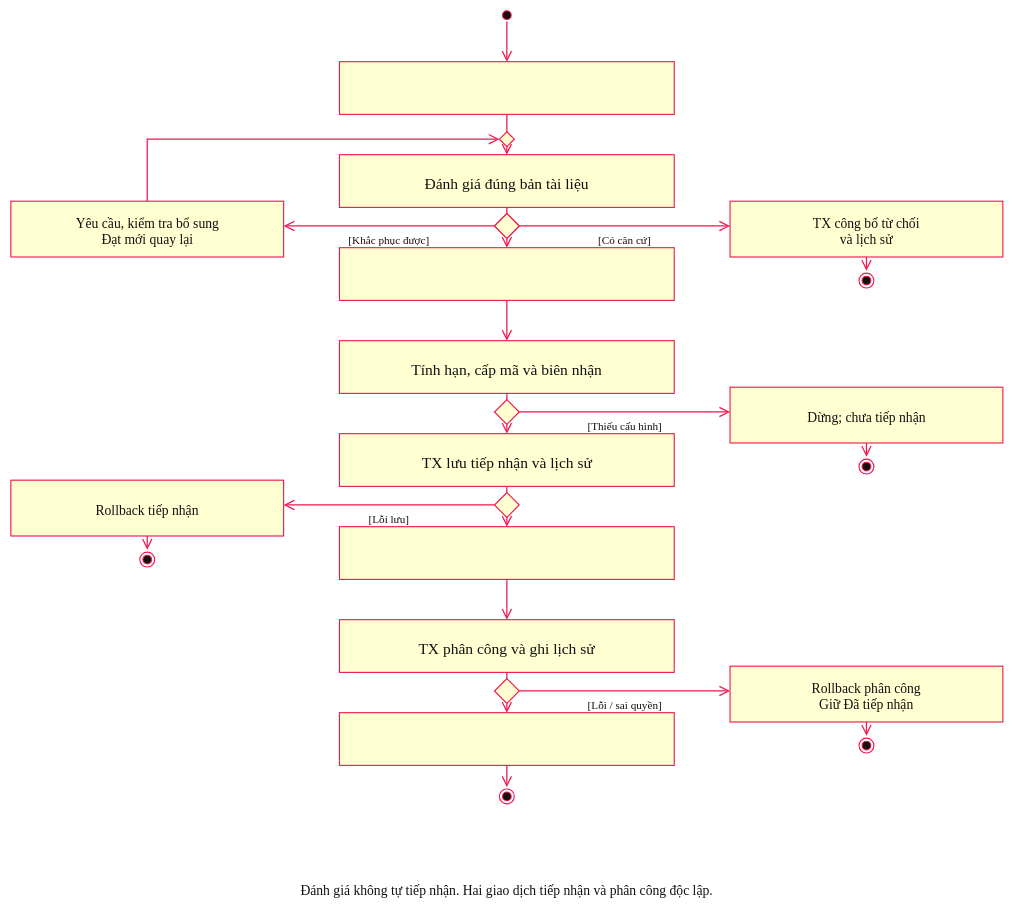
Some shapes in this 1014 by 910 pixel diagram are drawn without their labels. The shapes that lost their labels are listed below. From the top down, each one's box as (x1, y1, x2, y2) in pixels, then its label:
(339, 61, 674, 115): Mở hồ sơ đúng quyền
(339, 247, 674, 301): Cán bộ xác nhận tiếp nhận
(339, 526, 674, 580): Chọn và xác nhận người nhận
(339, 712, 674, 766): Thông báo phân công thành công
